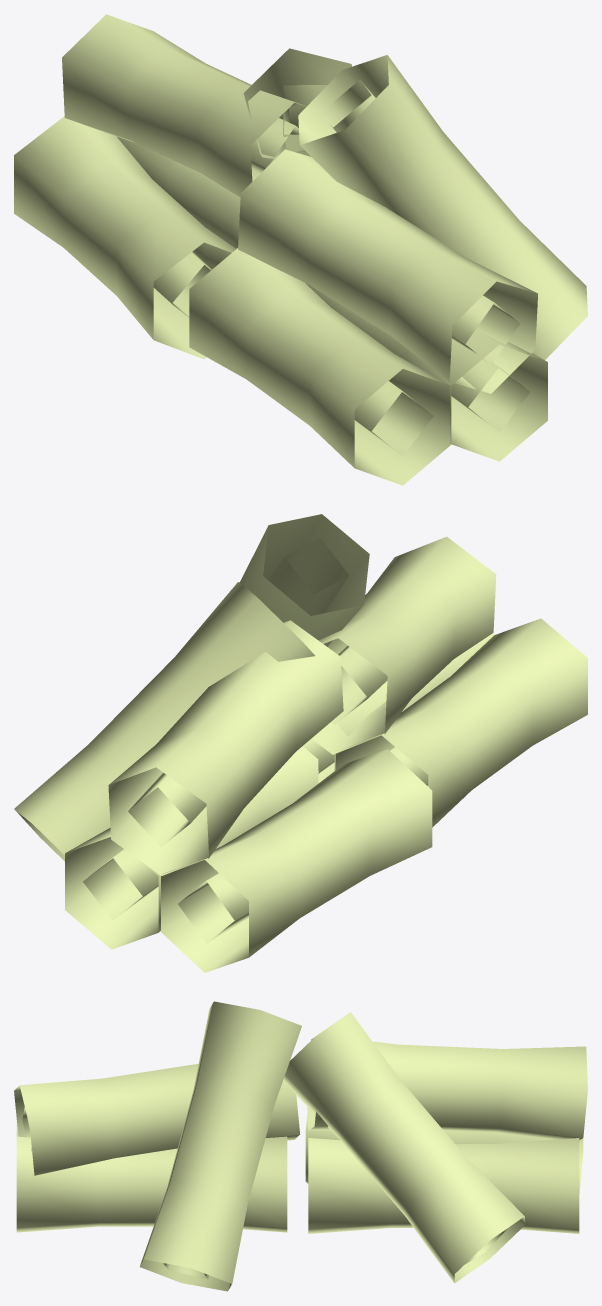
The picture shows the model from 3 angles, top to bottom: view 1: azimuth 30°, elevation 25°; view 2: azimuth 150°, elevation 25°; view 3: azimuth 270°, elevation 25°; orthographic projection. The views are drawn at different scales.
Parts seen in each view (by area): view 1: Straw02; view 2: Straw02; view 3: Straw02.
Part boxes in pixels (<box>): Straw02: <box>14,14,587,485</box>; Straw02: <box>14,514,587,972</box>; Straw02: <box>14,1001,587,1291</box>.
Size of the model in its own units: 255 by 206 by 432.
